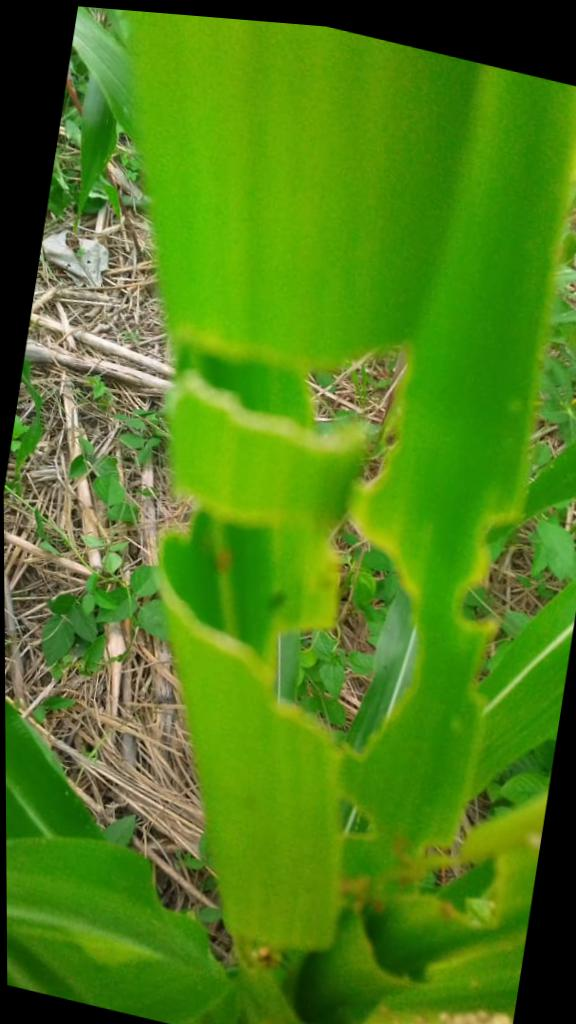early_to_moderate: (303, 825, 445, 936)
severe: (107, 268, 479, 783), (304, 755, 544, 1013), (444, 468, 560, 662)
